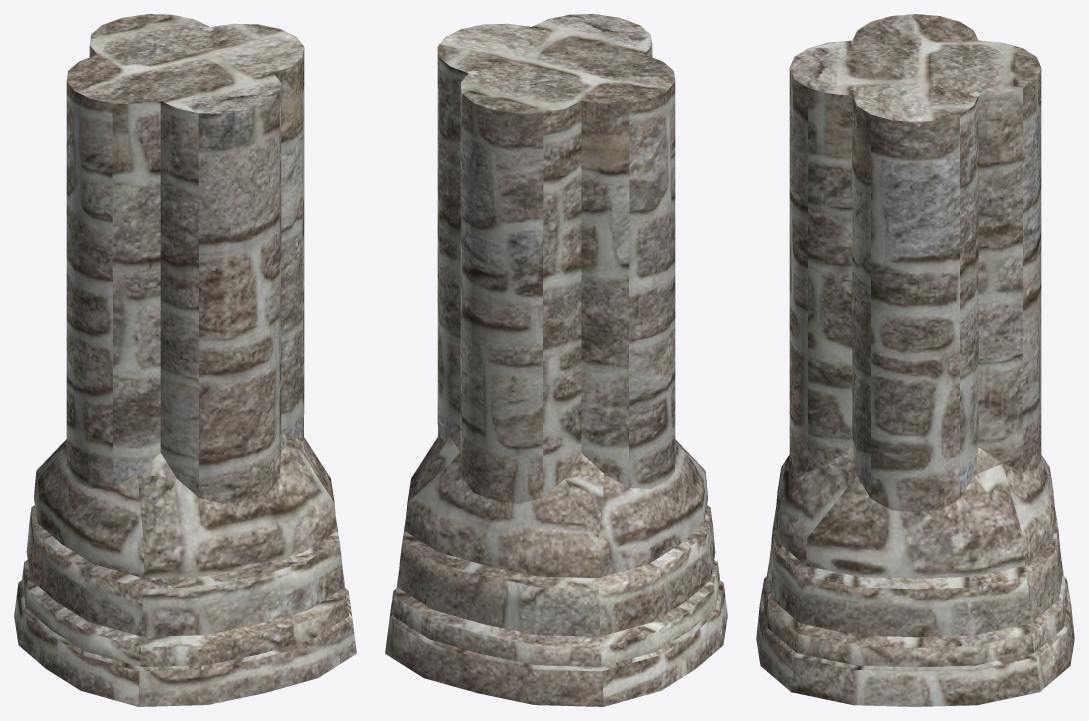
File: wall_small4_base.obj
3 renders of one model, left to right at view 1: azimuth 30°, elevation 25°; view 2: azimuth 150°, elevation 25°; view 3: azimuth 270°, elevation 25°, orthographic.
Bounding box in the file's own units: 1.02 × 2 × 1.01.
Materials: 1 (1 with a texture image).
